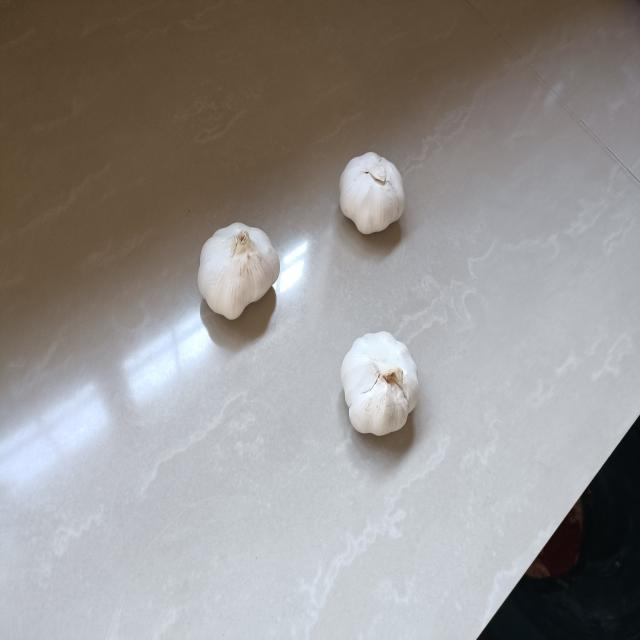garlic: (193, 216, 289, 329), (338, 328, 424, 438), (337, 144, 411, 238)
